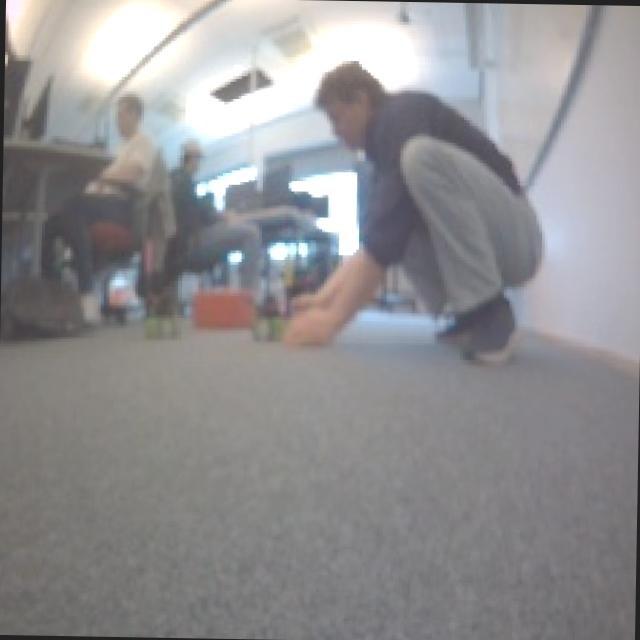robot: (250, 298, 296, 342), (136, 308, 180, 340)
target: (188, 284, 254, 328)
